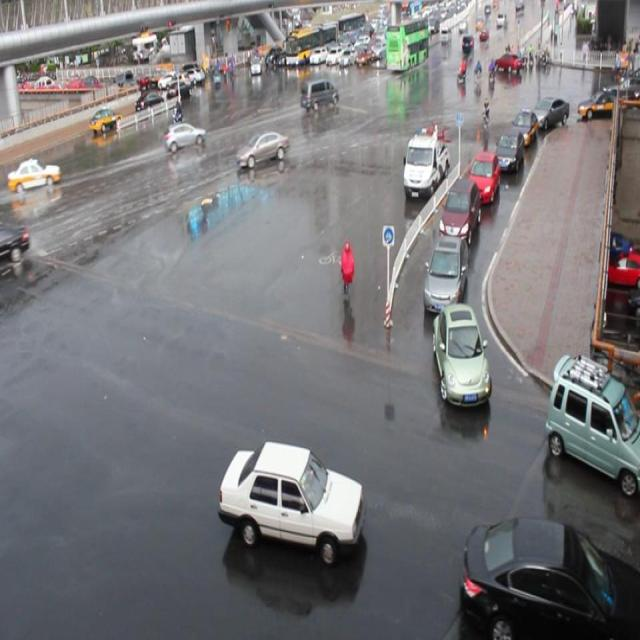bus: (402, 130, 449, 200)
car: (460, 514, 640, 639), (217, 438, 363, 560), (546, 352, 640, 493), (433, 301, 489, 405), (422, 234, 467, 314), (438, 178, 480, 245), (237, 131, 289, 168), (10, 156, 60, 192), (466, 150, 499, 204), (528, 94, 568, 130), (493, 129, 524, 172), (164, 121, 206, 152), (1, 222, 28, 264), (510, 110, 537, 146)
truck: (300, 79, 338, 108)
